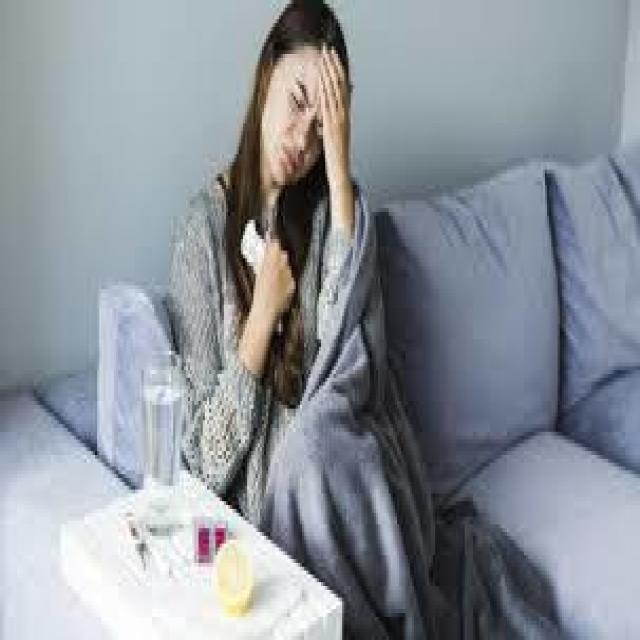person: (120, 0, 460, 636)
